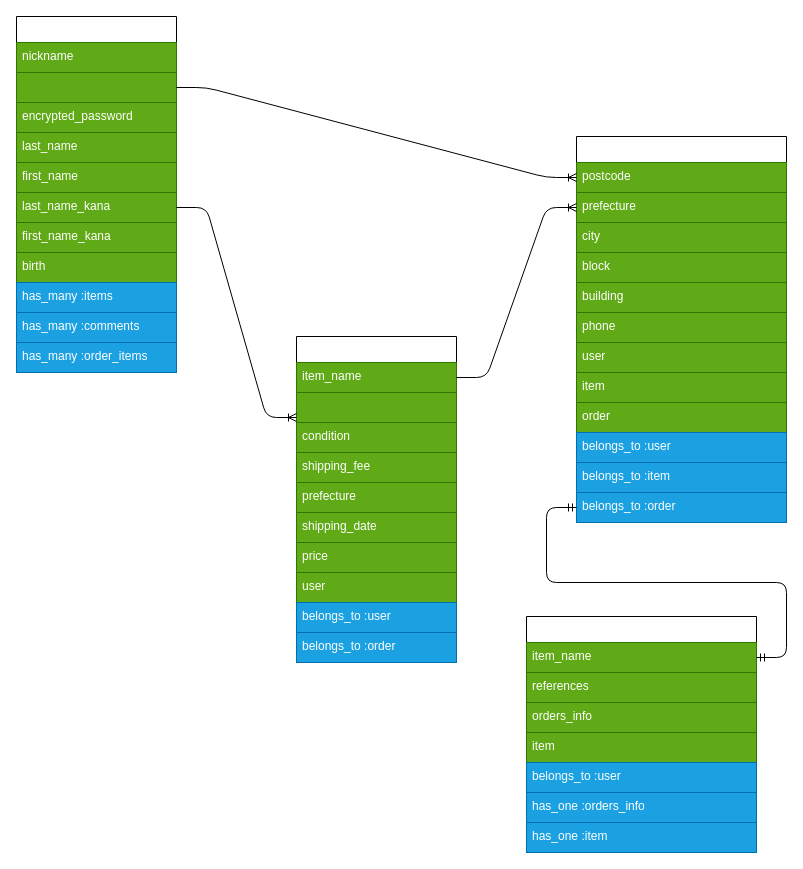
Some shapes in this 803 by 869 pixel diagram are drawn without their labels. Here are the shapes that lost their labels. From the top down, the box of each, then its label:
(16, 72, 176, 102): email
(16, 16, 176, 372): usersテーブル
(576, 136, 786, 522): orders_infoテーブル
(296, 392, 456, 422): category
(296, 336, 456, 662): itemsテーブル
(526, 616, 756, 852): ordersテーブル
